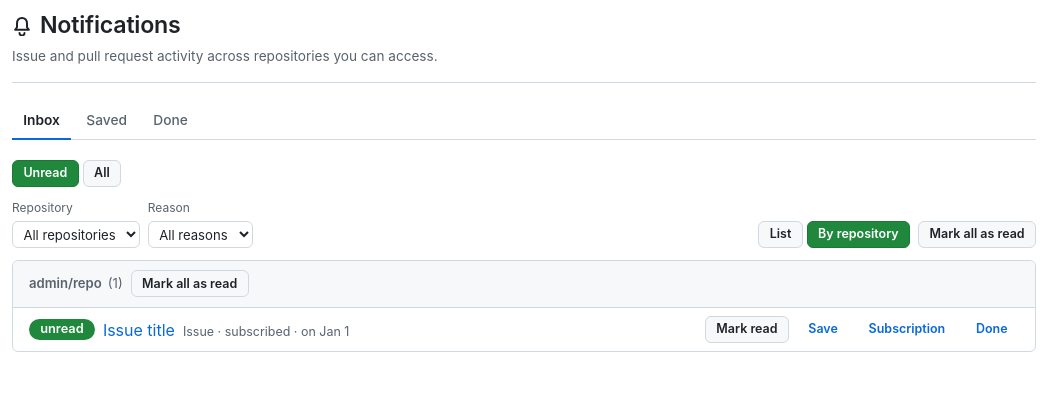
Test: NotificationsPage › defaults to the by-repository grouping and persists a flat-list choice
The image size is (1048, 394).
expect the link "Issue title" is shown: met, box [103,316,175,342]
What coordinates should you click on to do the following:
click the button "List"
I would click on:
 (780, 234)
Its box is [758,221,803,248].
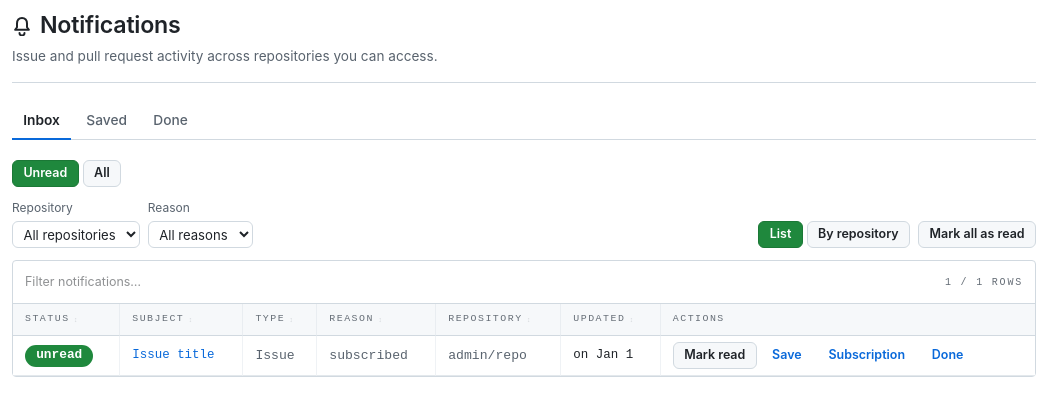
expect the table is shown: met, box [13,304,1035,376]
